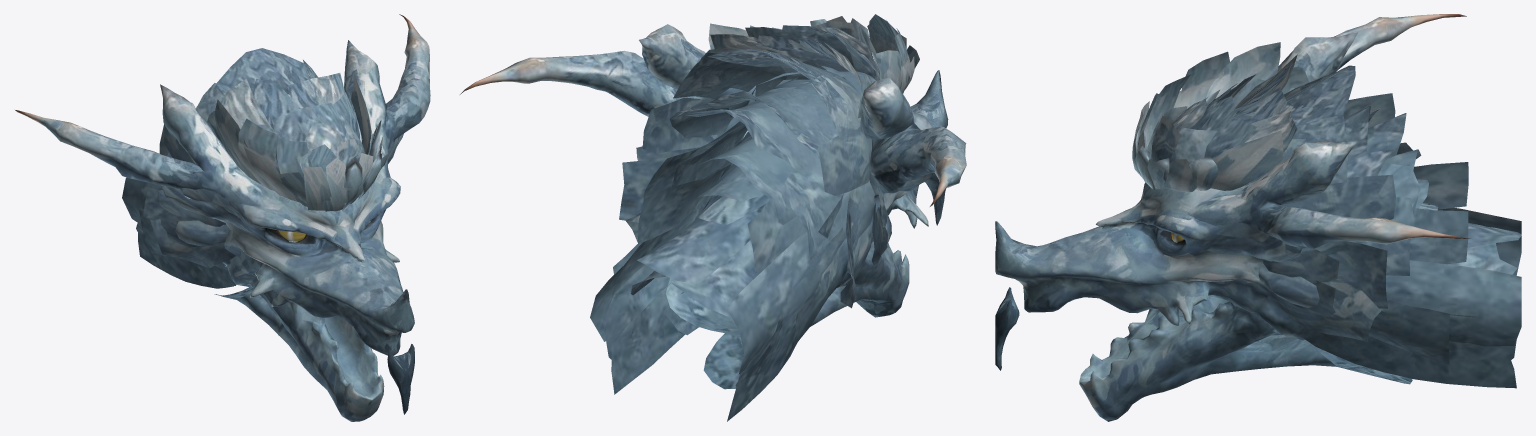
File: ice_dragon.glb
3 renders of one model, left to right at view 1: azimuth 30°, elevation 25°; view 2: azimuth 150°, elevation 25°; view 3: azimuth 270°, elevation 25°, orthographic. The views are drawn at different scales.
Bounding box in the file's own units: 1 × 0.7294 × 1.
Materials: 1 (1 with a texture image).
